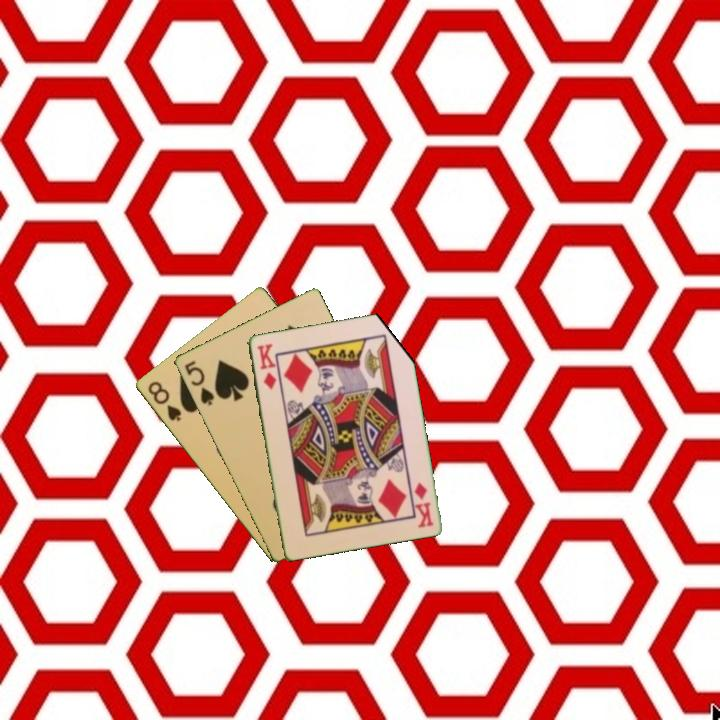5s: (181, 357, 217, 408)
8s: (144, 378, 184, 424)
Kd: (410, 478, 436, 530), (254, 340, 279, 392)
